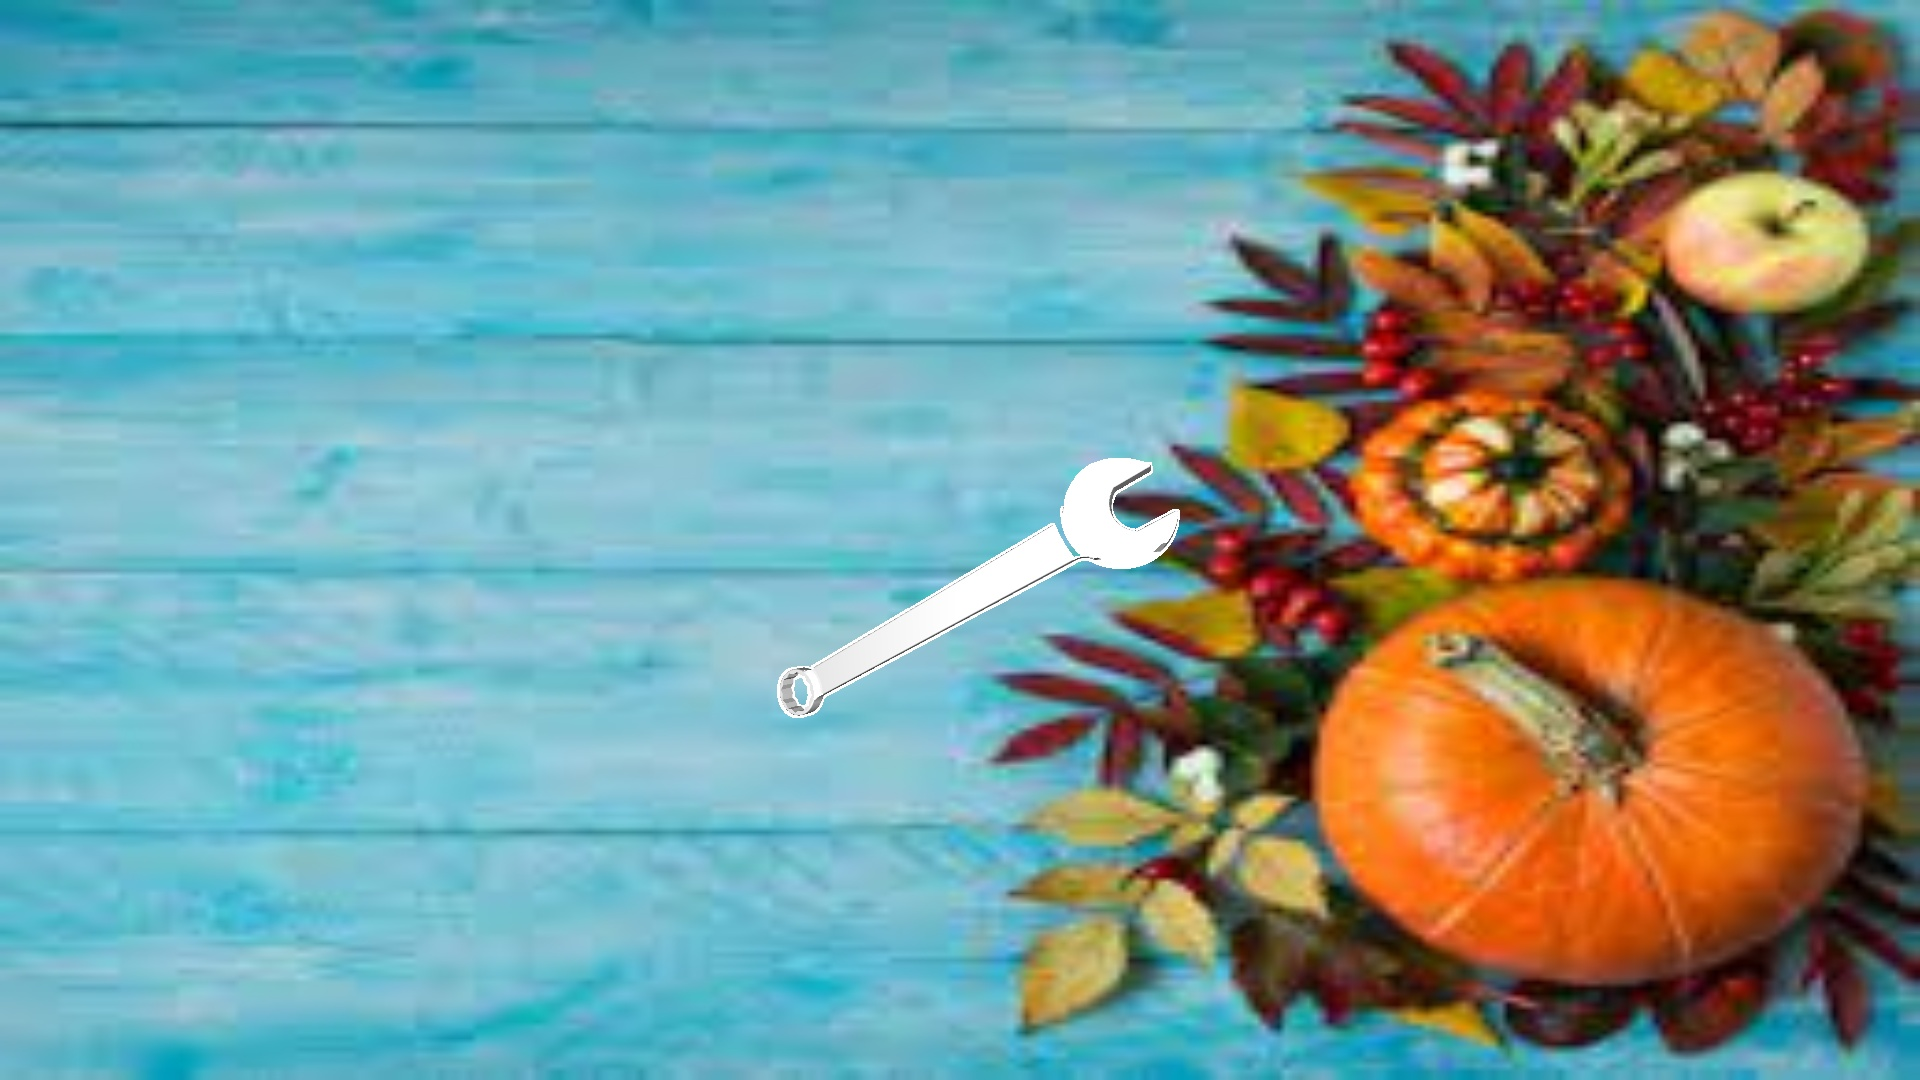Mixed Key: (777, 458, 1179, 717)
